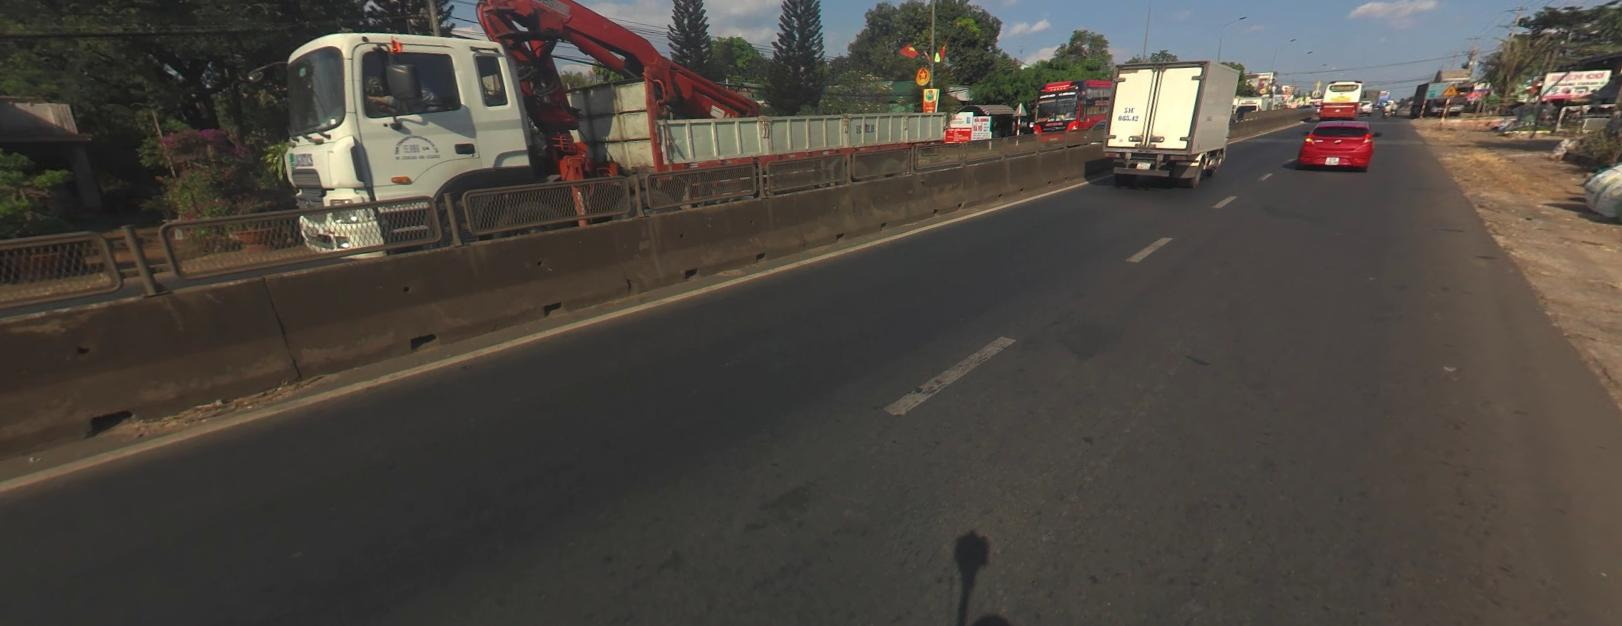Nguy hiem: (1442, 83, 1460, 95)
